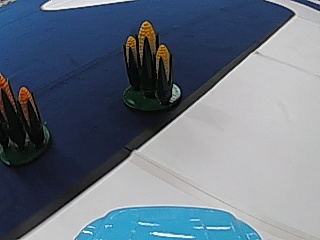corn: (120, 16, 180, 111), (0, 73, 53, 166)
